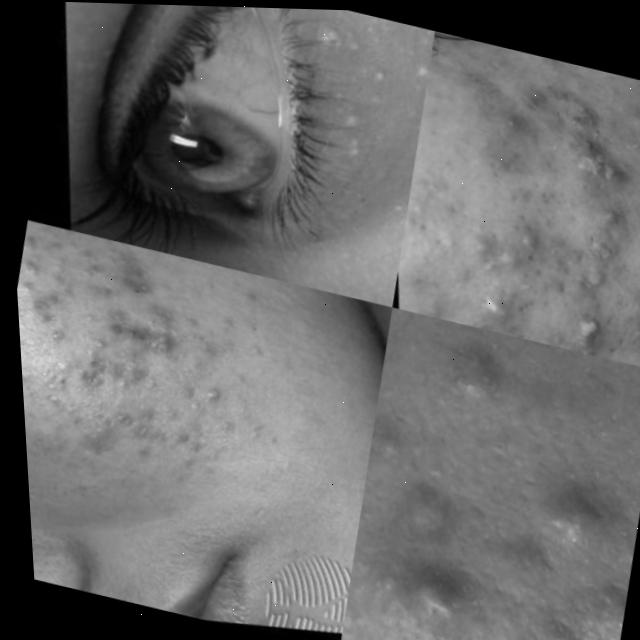Acne: (325, 322, 640, 640), (392, 54, 640, 371), (13, 223, 252, 498), (282, 10, 437, 209)
